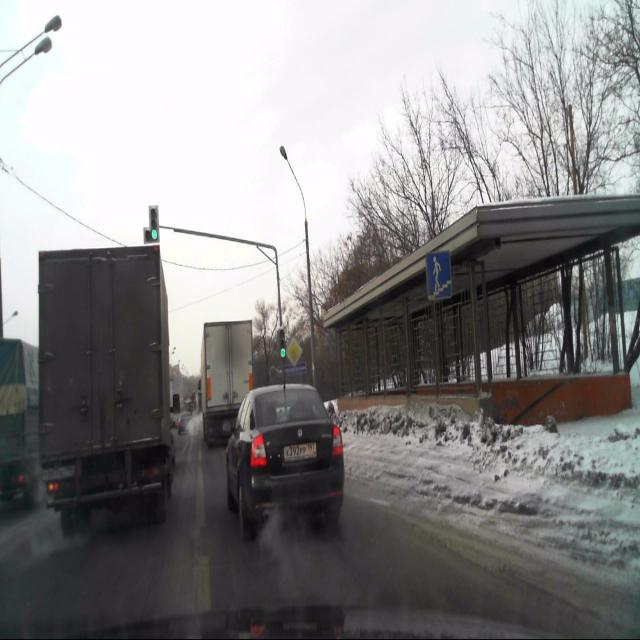road sign: (426, 250, 452, 300), (286, 336, 303, 367)
